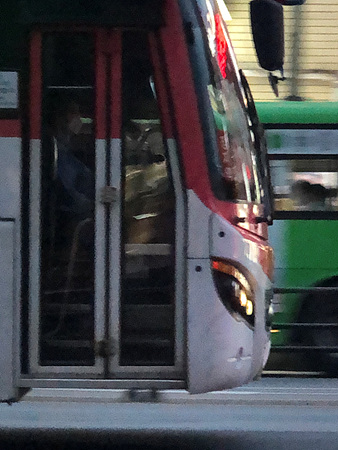entrance: (34, 9, 190, 395)
